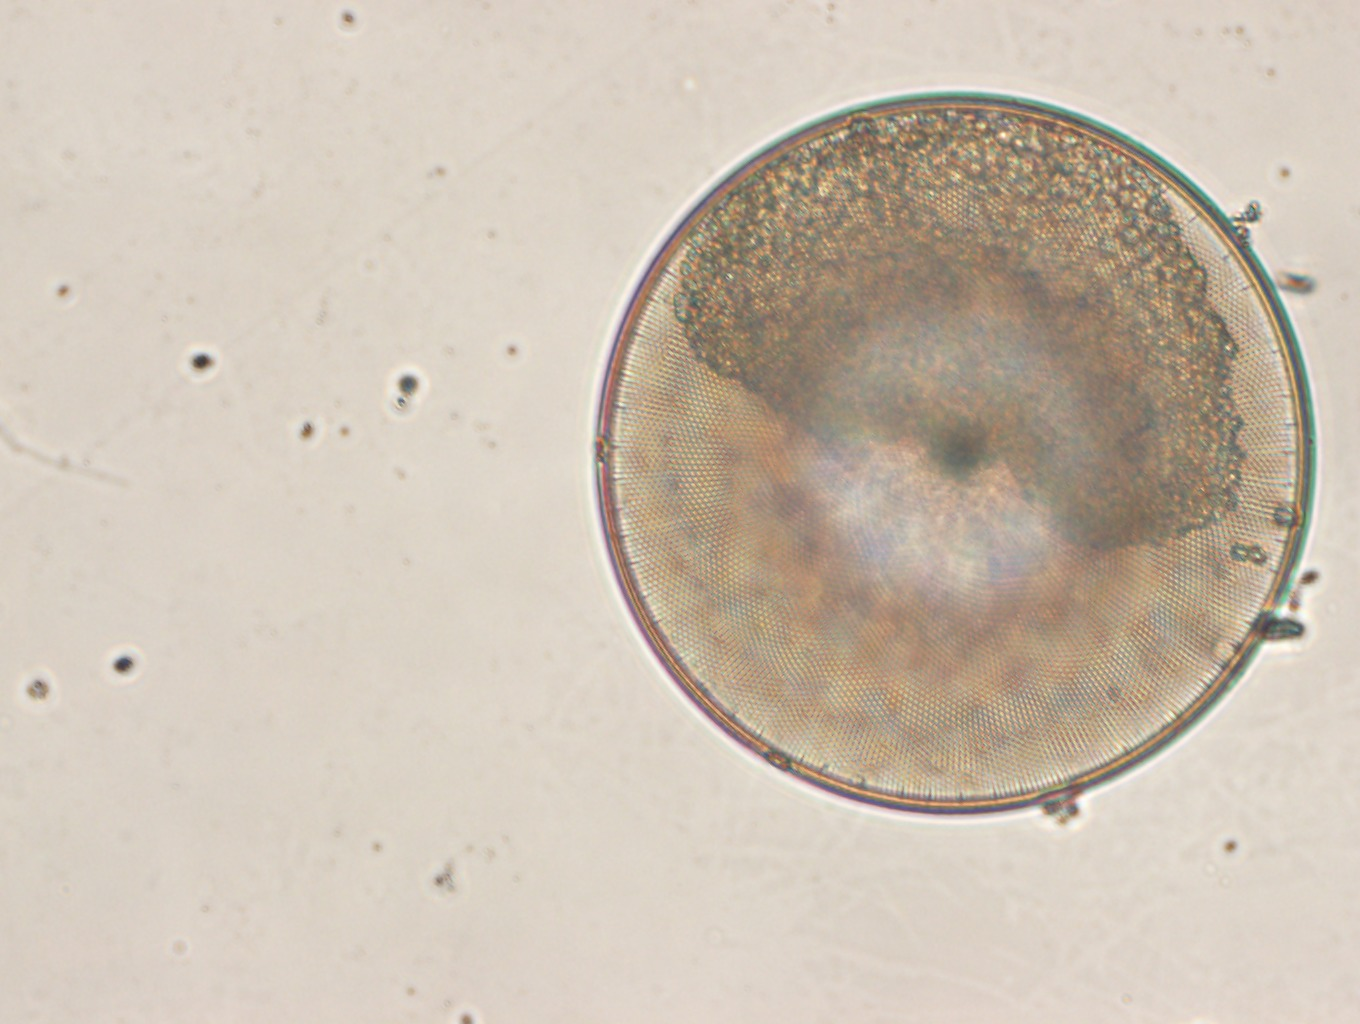coscinodiscus: (586, 86, 1318, 819)
